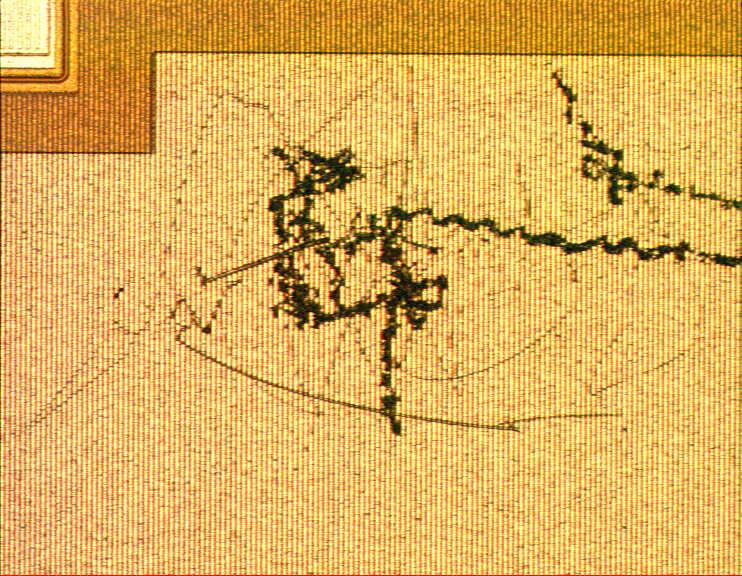SCRATCH: (3, 53, 742, 486)
